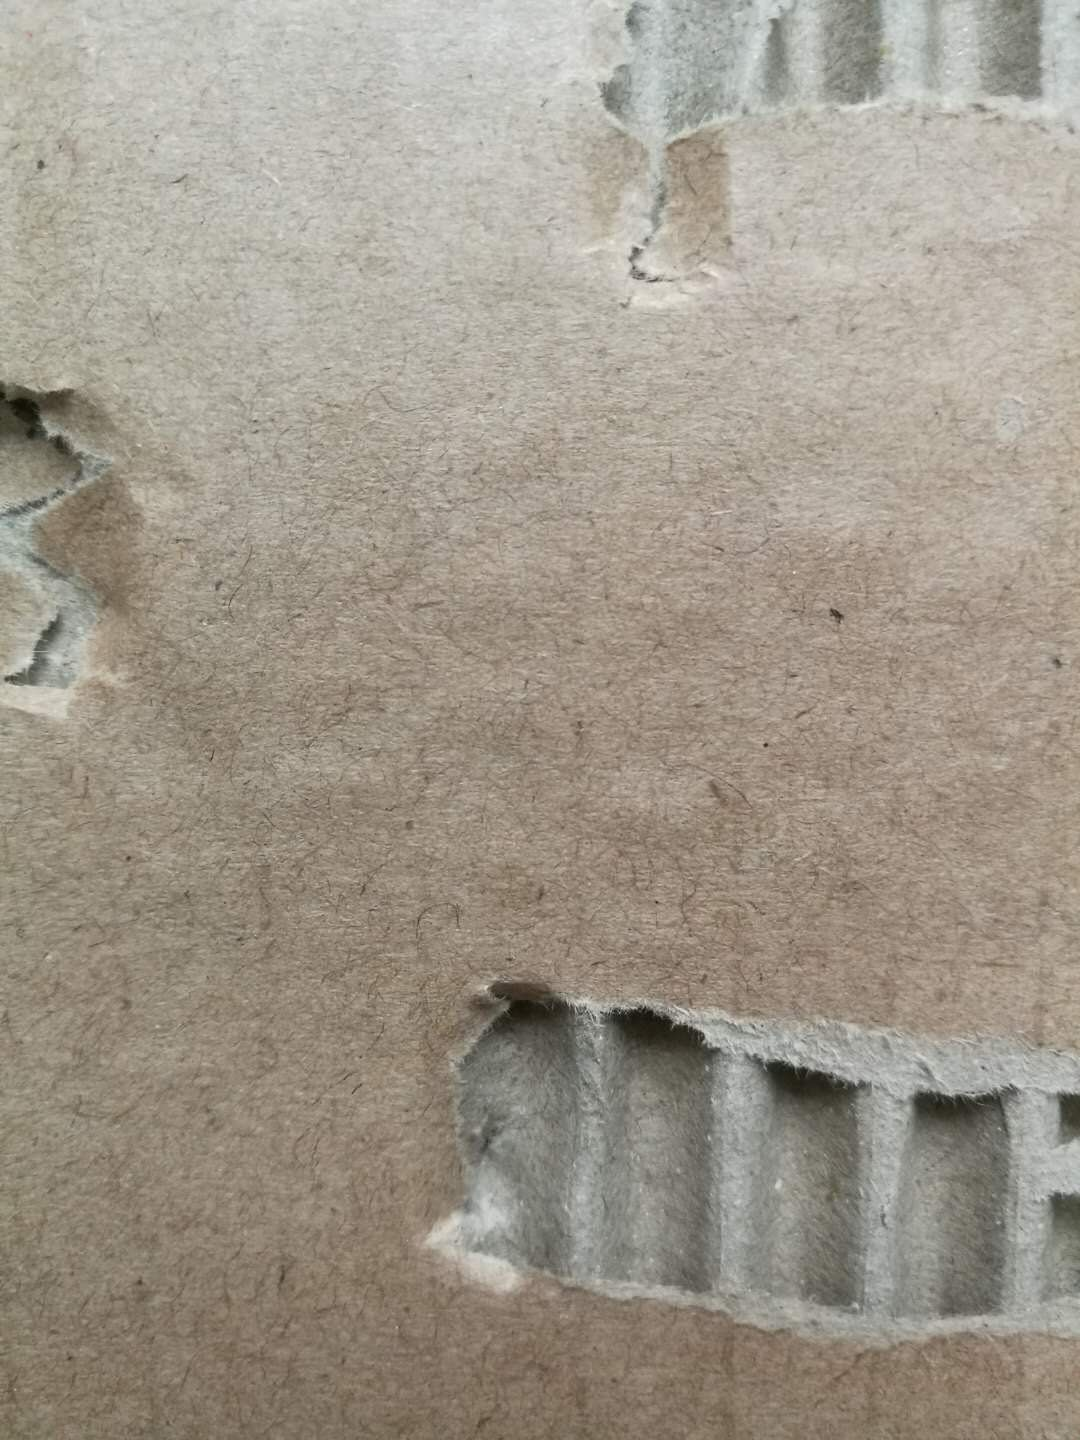defect: (389, 918, 1080, 1386), (537, 5, 1080, 317), (1, 327, 200, 779)
